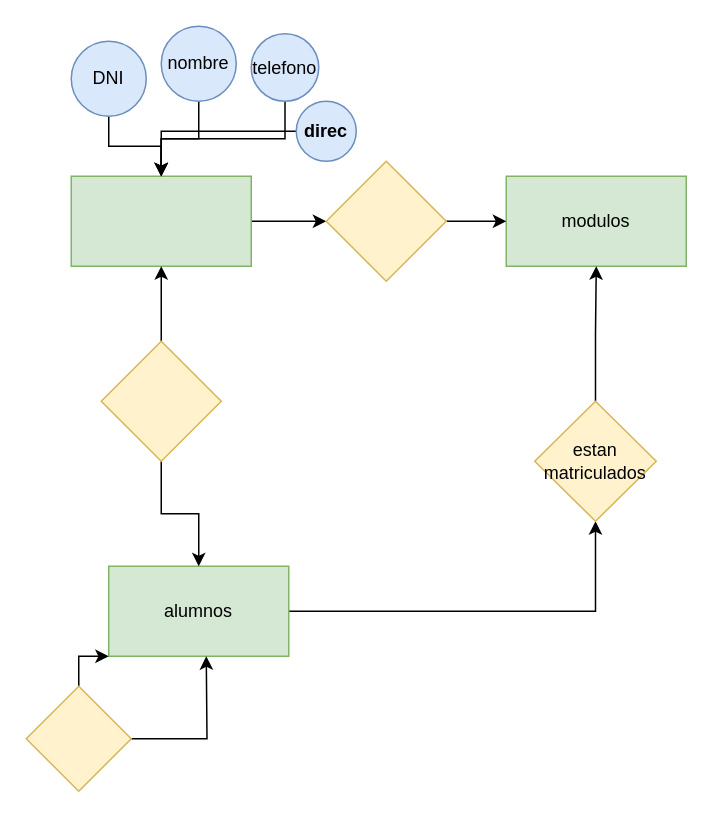
The diagram is 713 pixels wide and 818 high, and some of its shapes have lost their labels. Here are the shapes that lost their labels. From the top down, the centre of each, then its label:
the point at 160,220: profesores
the point at 385,220: imparten
the point at 160,400: da clase
the point at 78,738: ser delegado
